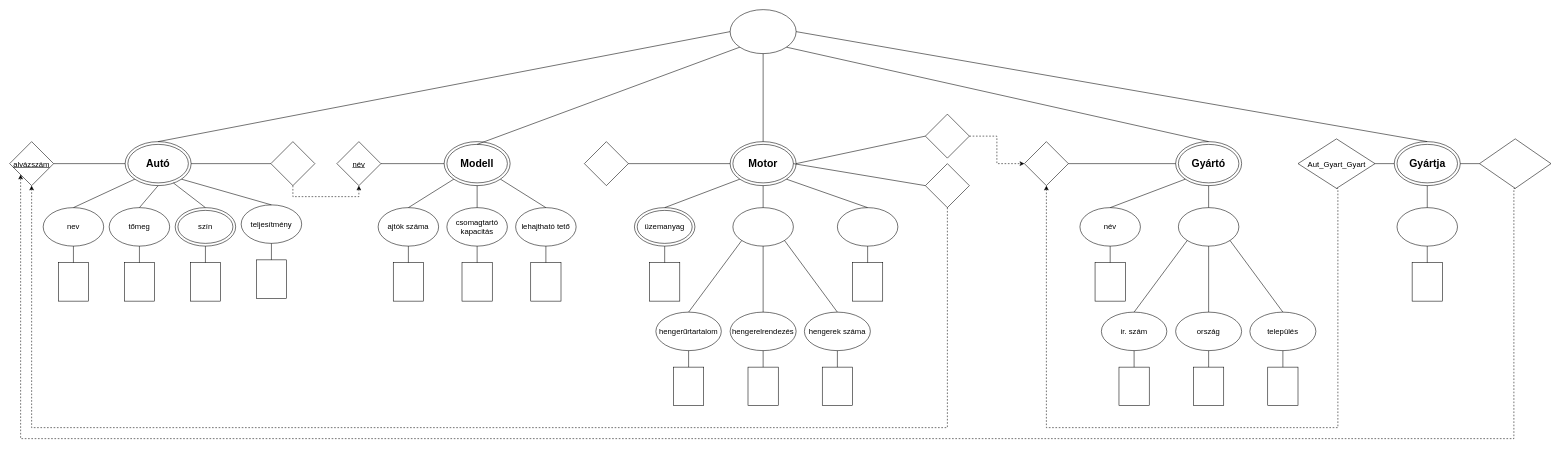
The diagram is 1561 pixels wide and 453 high, and some of its shapes have lost their labels. The shapes that lost their labels are listed below. From the top down, each one's centre as x and y in pixels, then its label:
At (x=763, y=31): "Gépjármű-felépítés".
At (x=947, y=136): "Mot_Gyart".
At (x=292, y=163): "Aut_Mod".
At (x=606, y=163): "motorkód".
At (x=1046, y=163): "adószám".
At (x=1515, y=163): "Aut_Gyart_Aut".
At (x=947, y=185): "Mot_Aut".
At (x=762, y=226): "alaprajz".
At (x=867, y=226): "nyomaték".
At (x=1208, y=226): "cím".
At (x=1427, y=226): "évjárat".
